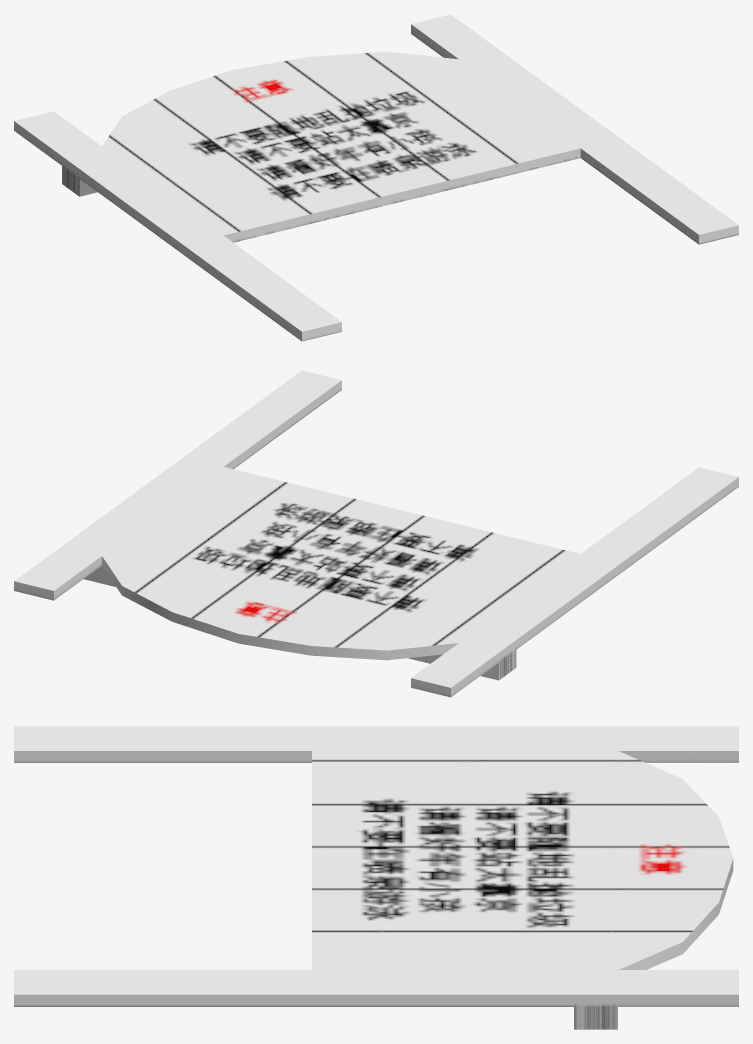
Rendered from obj_wishingFountain_1.fbx.
The picture shows the model from 3 angles, top to bottom: view 1: azimuth 30°, elevation 25°; view 2: azimuth 150°, elevation 25°; view 3: azimuth 270°, elevation 25°; orthographic projection. The views are drawn at different scales.
Visible parts, largest first — view 1: pCube80; view 2: pCube80; view 3: pCube80.
Boxes of the visible parts, bbox=[...] form: pCube80: bbox=[14, 14, 738, 341]; pCube80: bbox=[14, 370, 738, 697]; pCube80: bbox=[14, 726, 738, 1029].
Bounding box in the file's own units: 2.32 × 0.1412 × 2.65.
Materials: 1 (1 with a texture image).
